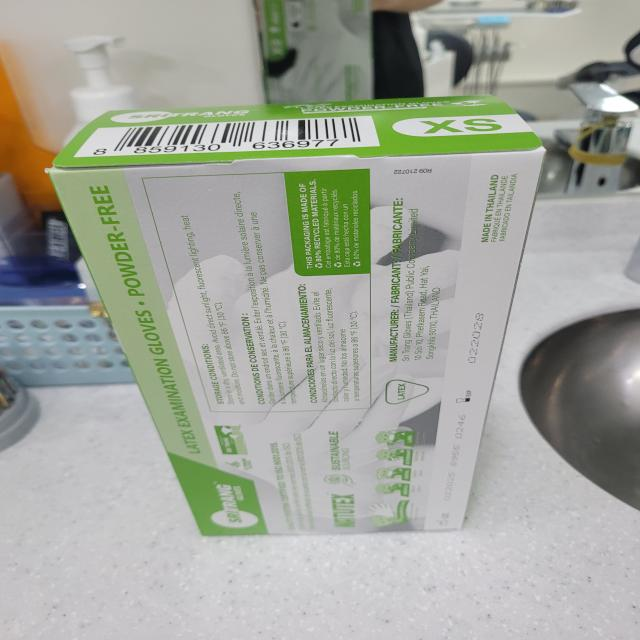glove: (21, 87, 609, 573)
